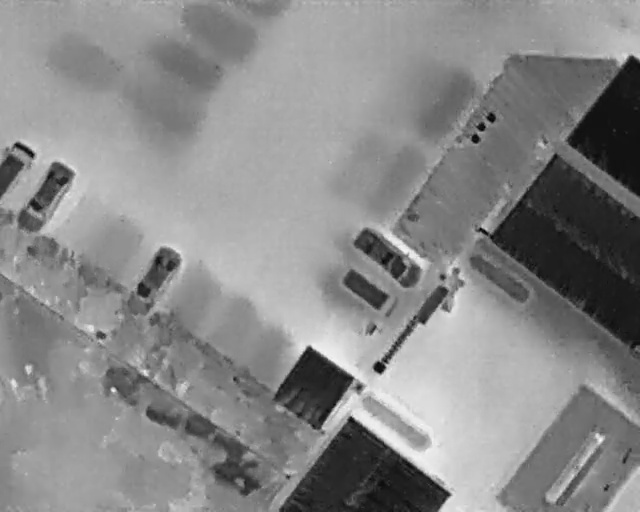Car: (347, 217, 430, 296), (8, 155, 82, 241), (118, 240, 188, 323), (1, 140, 35, 198)
